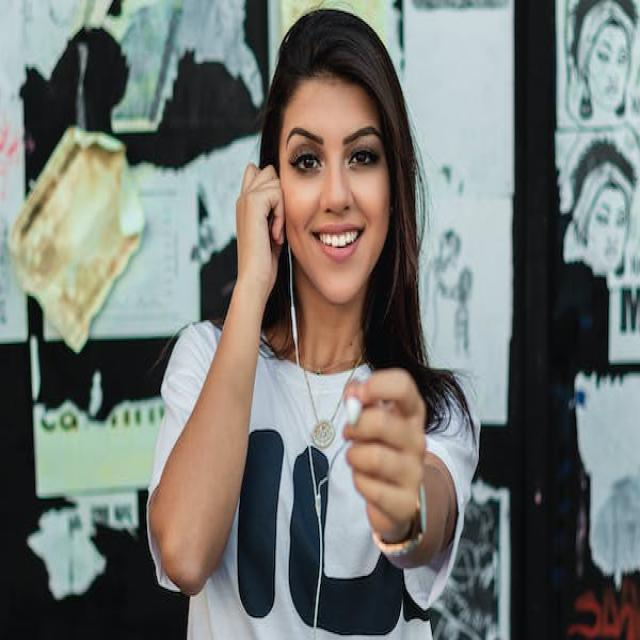Earphone: (286, 245, 363, 640)
